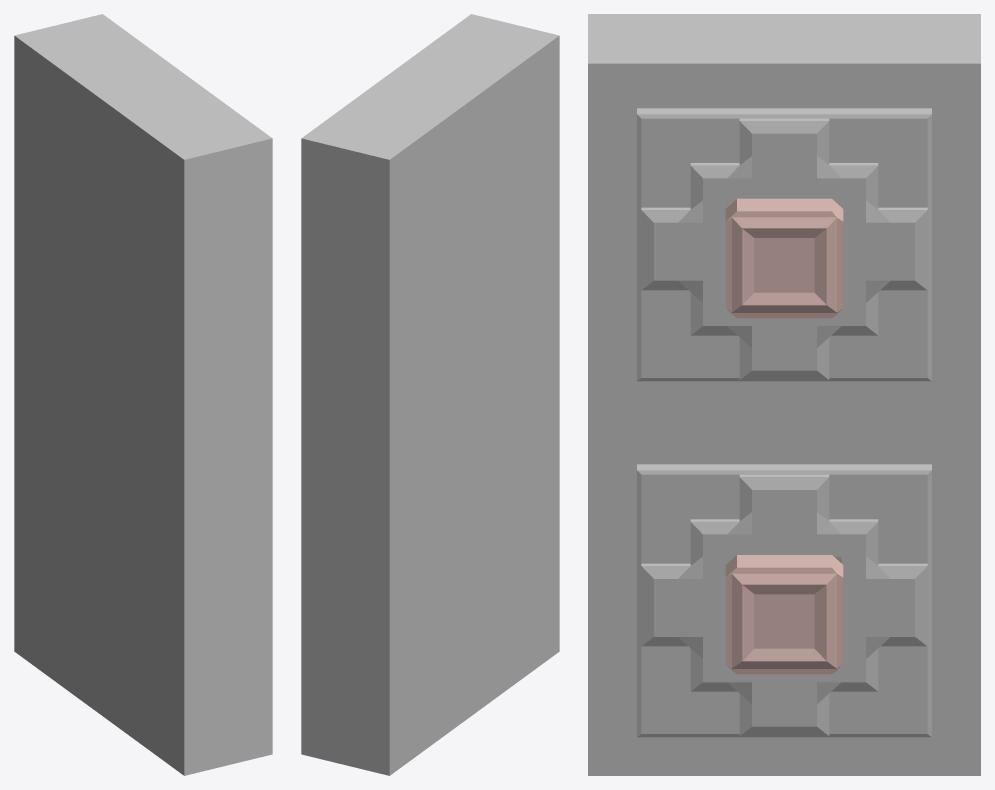
Rendered from 2개버튼.fbx.
3 views of the same model, side by side, from view 1: azimuth 30°, elevation 25°; view 2: azimuth 150°, elevation 25°; view 3: azimuth 270°, elevation 25° (orthographic). The views are drawn at different scales.
Visible parts, largest first — view 1: 2개짜리판때기; view 2: 2개짜리판때기; view 3: 2개짜리판때기, 2-버튼2, 2-버튼1.
Boxes of the visible parts, x1,y1,x2,y2 form: 2개짜리판때기: (14,14,272,775); 2개짜리판때기: (301,14,559,775); 2개짜리판때기: (588,14,980,775); 2-버튼2: (725,198,843,318); 2-버튼1: (725,555,843,674).
Bounding box in the file's own units: 90.08 × 400 × 200.
